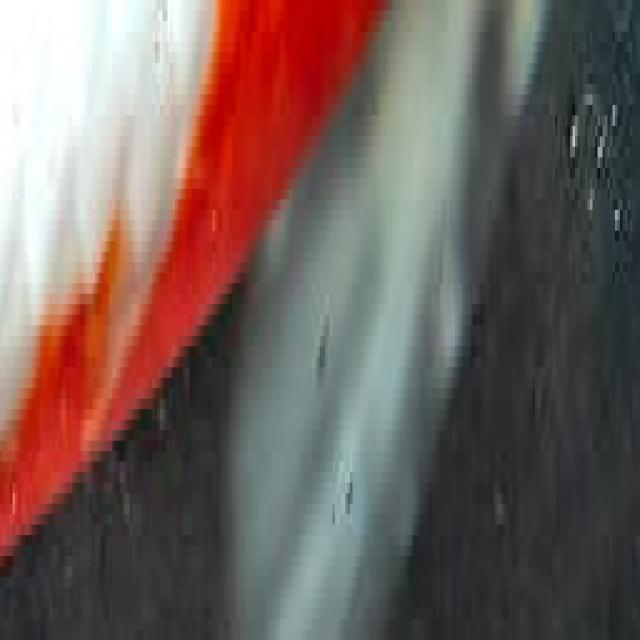fish: (0, 0, 638, 630)
